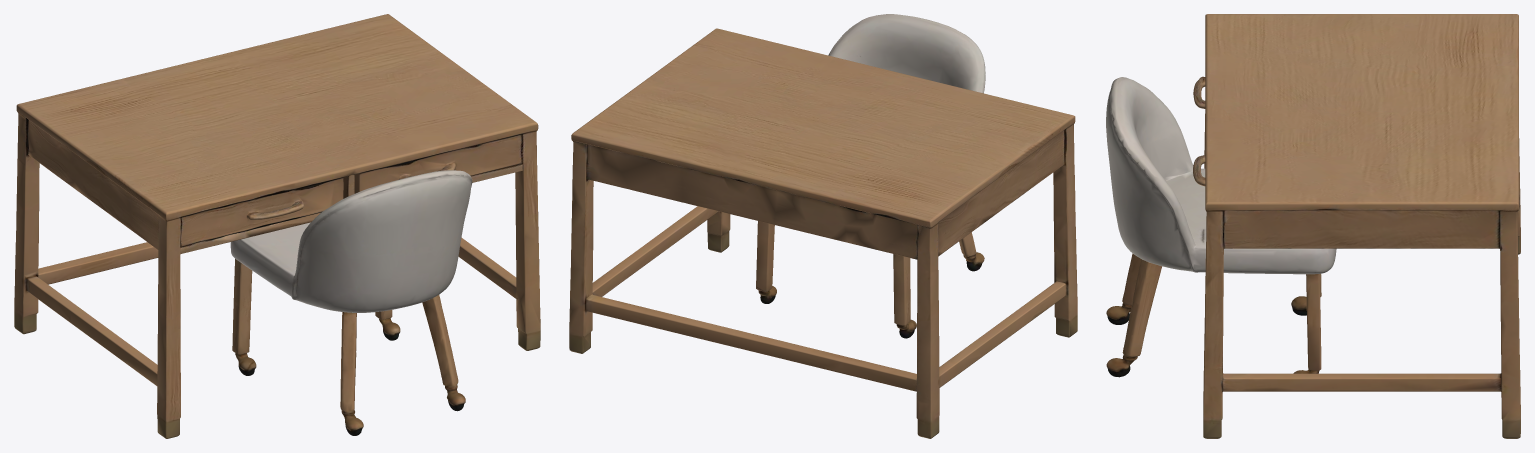
Rendered from desk.88f6e7ac.glb.
The picture shows the model from 3 angles, left to right: view 1: azimuth 30°, elevation 25°; view 2: azimuth 150°, elevation 25°; view 3: azimuth 270°, elevation 25°; orthographic projection. The views are drawn at different scales.
Parts seen in each view (by area): view 1: tripo_node_449103d9-1ec8-42ec-8180-3218b6c3cc42; view 2: tripo_node_449103d9-1ec8-42ec-8180-3218b6c3cc42; view 3: tripo_node_449103d9-1ec8-42ec-8180-3218b6c3cc42.
Boxes of the visible parts, x1=… form: tripo_node_449103d9-1ec8-42ec-8180-3218b6c3cc42: x1=14, y1=14, x2=540, y2=438; tripo_node_449103d9-1ec8-42ec-8180-3218b6c3cc42: x1=569, y1=14, x2=1077, y2=438; tripo_node_449103d9-1ec8-42ec-8180-3218b6c3cc42: x1=1106, y1=14, x2=1520, y2=438.
Size of the model in its own units: 1.2 by 0.7499 by 1.1.
Materials: 1 (1 with a texture image).
